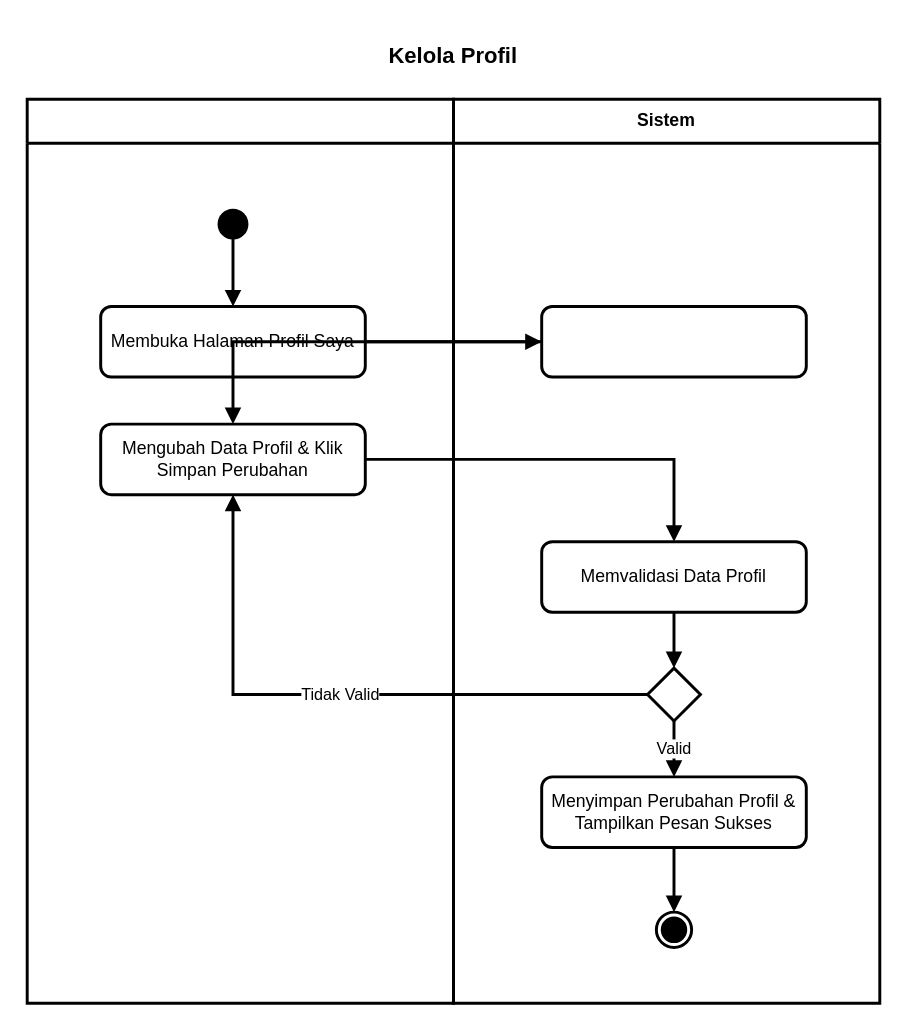
Image size: 906x1029. Some labels were removed from this diagram. The box of each missing label's shape, as (x1, y1, x2, y2) in pixels:
Aktor: (25, 97, 454, 1004)
Menampilkan Detail Profil & Form Edit: (539, 304, 807, 378)
